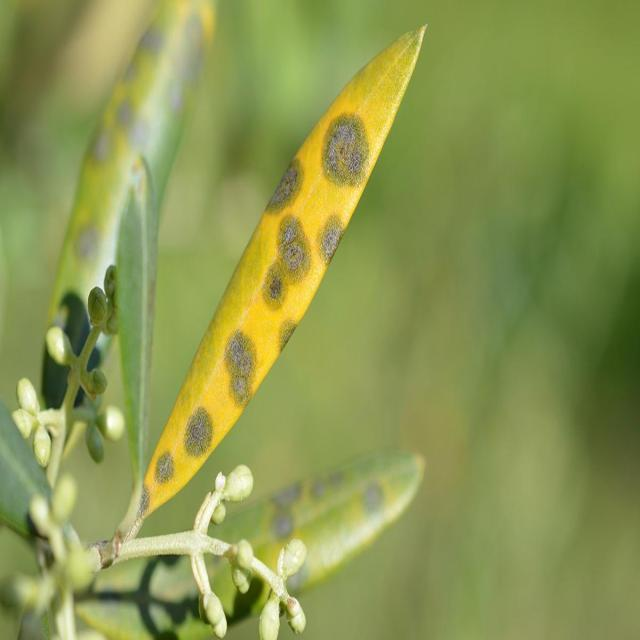OlivePeacockSpot: (142, 26, 426, 508), (212, 451, 424, 596)
